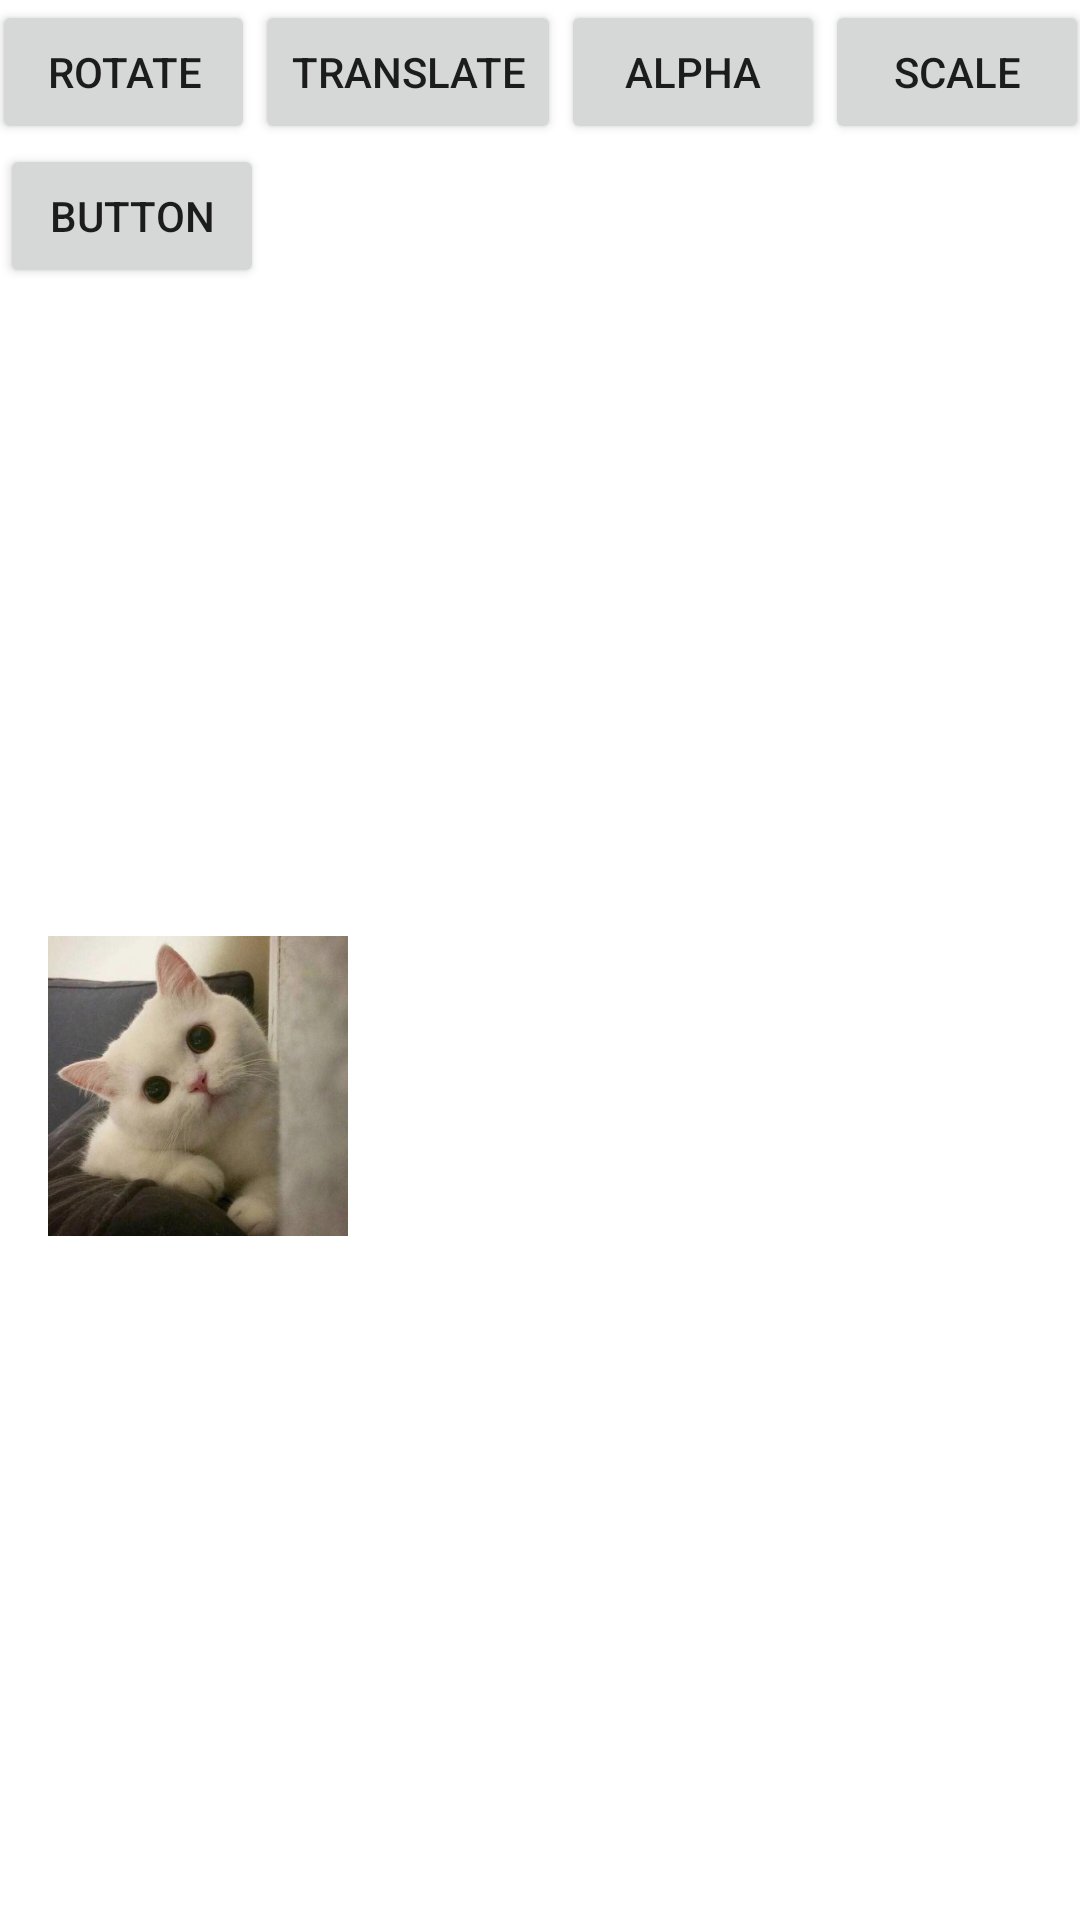

Named icons in this screenshot (1080px×1920px) and their bounding boxes, (x1, y1, x2, y2):
cat: (48, 936, 348, 1236)
